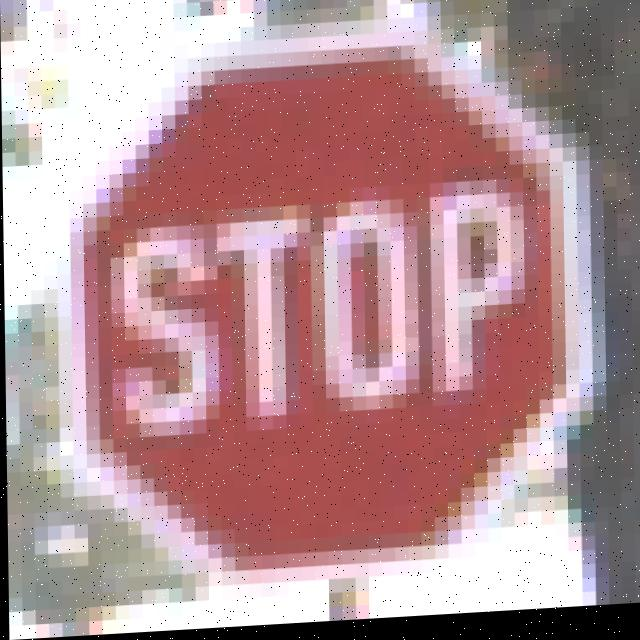stop: (70, 18, 570, 577)
